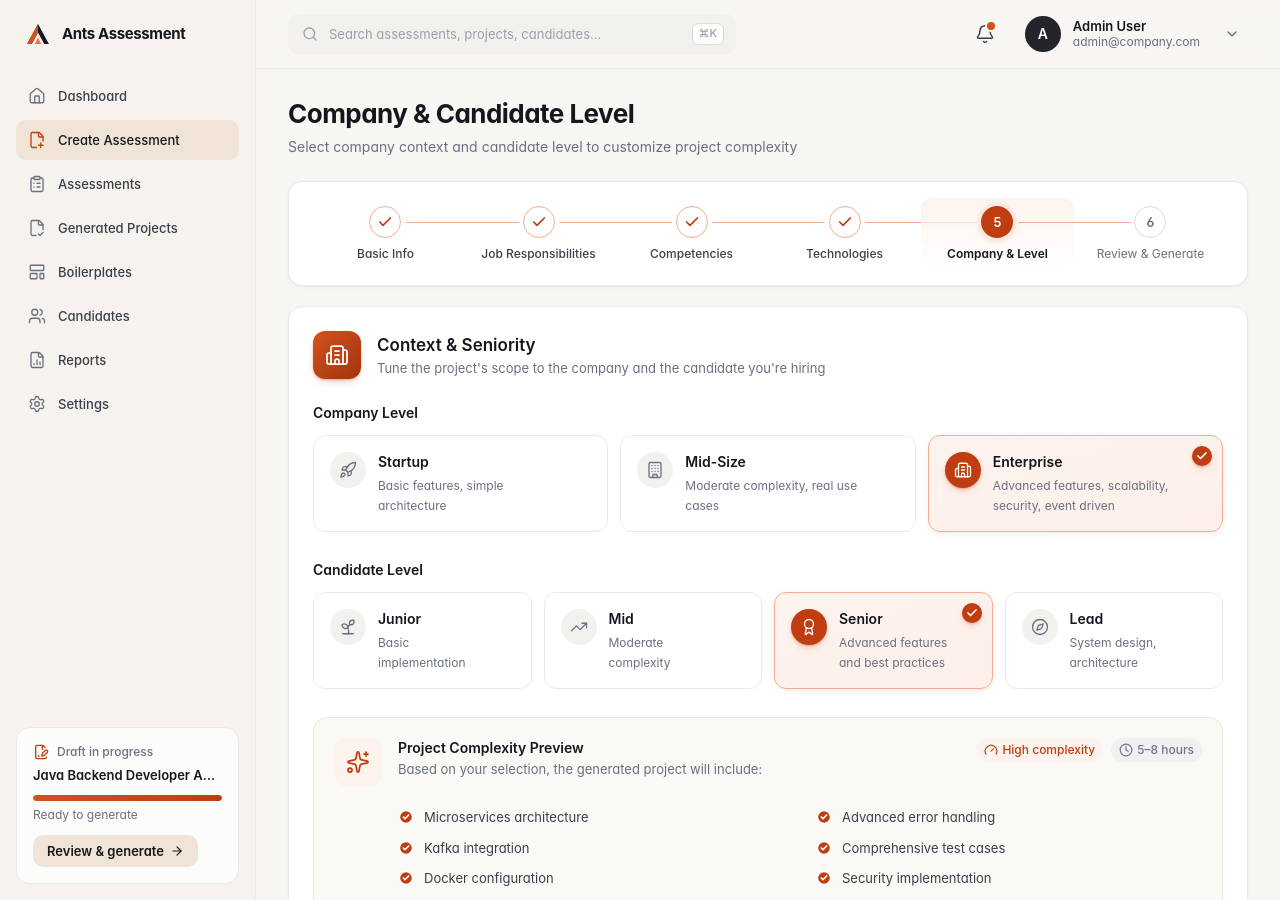
Company & Candidate Level step › selects levels as radio groups and updates the preview
This screenshot has width=1280, height=900.
Expected: the radio button labelled "Enterprise" is checked, 928,435 -> 1223,532
Expected: the radio button labelled "Senior Advanced features and best practices" is checked, 774,592 -> 992,689
Click the radio button labelled "Startup Basic features, simple architecture" at point(461, 484), box 313,435 -> 608,532
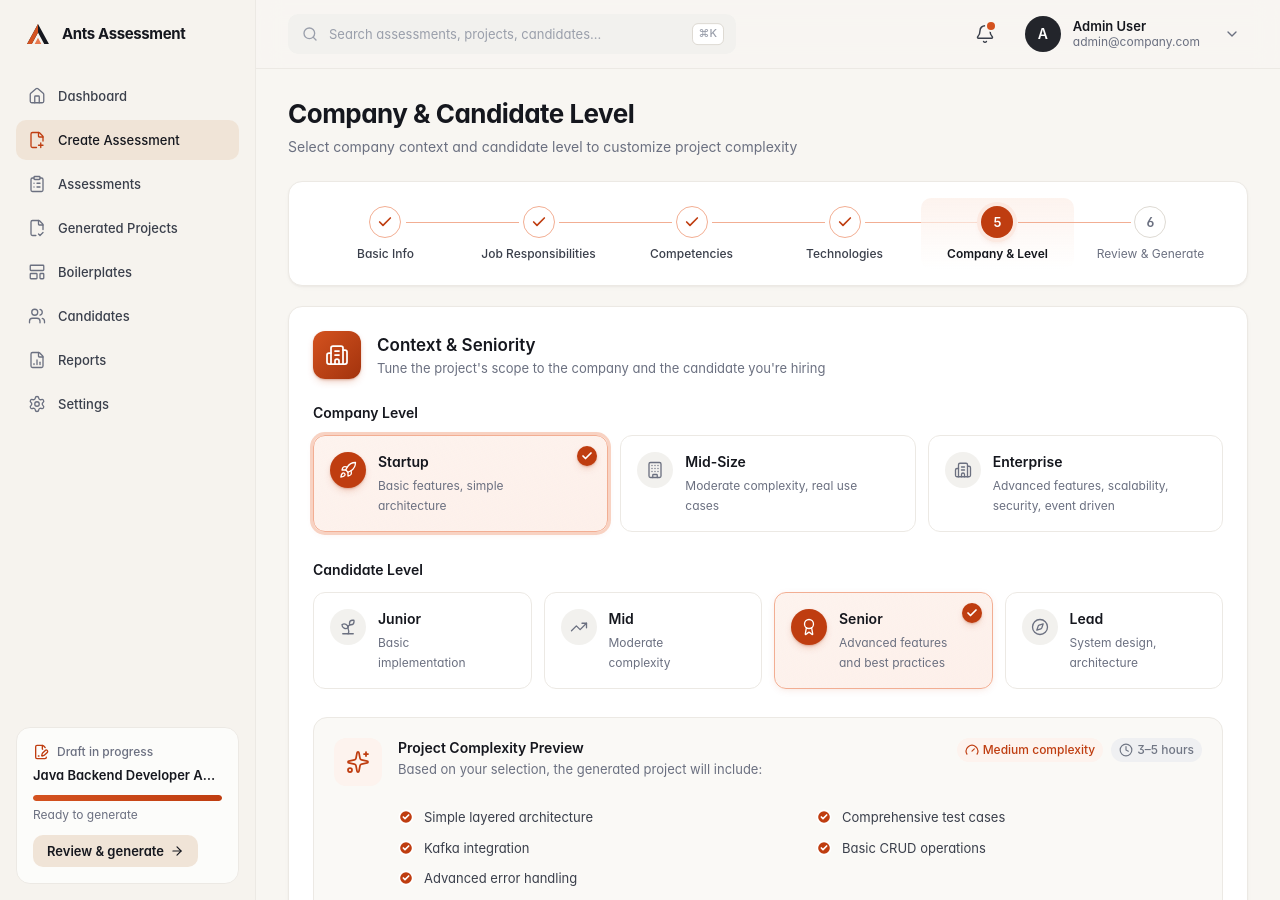
Click the radio button labelled "Junior Basic implementation" at point(422, 640), box 313,592 -> 532,689
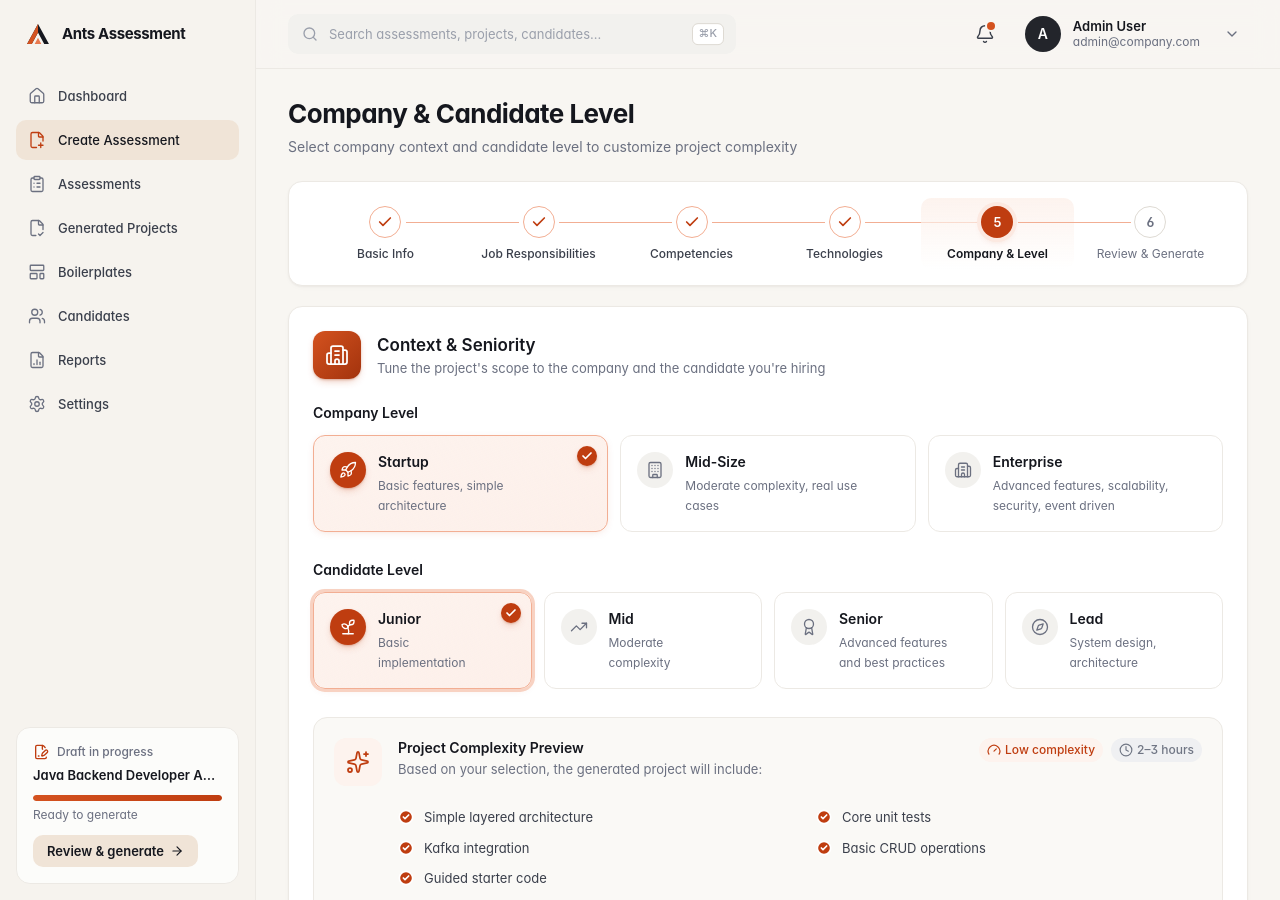
Expected: the radio button labelled "Enterprise" is not checked, 928,435 -> 1223,532
Expected: the list item "Simple layered architecture" is shown, 398,809 -> 593,825
Expected: the text "Low complexity" is shown, 979,738 -> 1103,762
